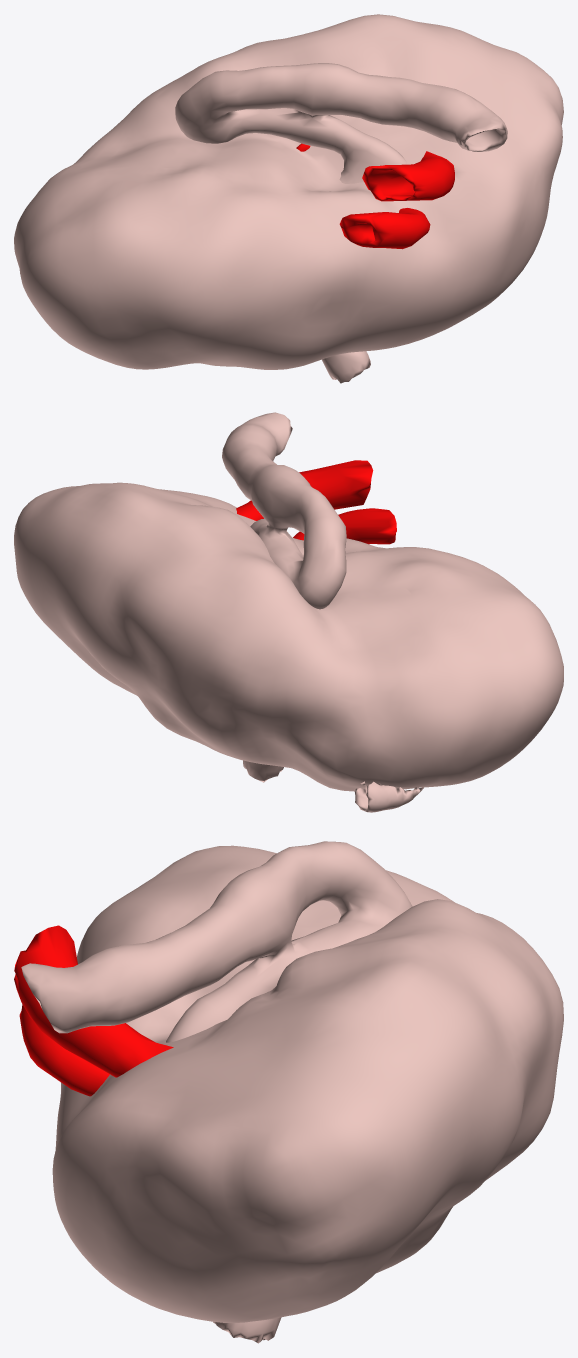
File: nih_f_lymph_node-80.glb
3 renders of one model, top to bottom at view 1: azimuth 30°, elevation 25°; view 2: azimuth 150°, elevation 25°; view 3: azimuth 270°, elevation 25°, orthographic. The views are drawn at different scales.
Parts seen in each view (by area): view 1: Yao_capsule_of_lymph_node, Yao_efferent_lymph_node, Yao_blood_vasculature, Yao_afferent_lymphatic_vessel; view 2: Yao_capsule_of_lymph_node, Yao_efferent_lymph_node, Yao_blood_vasculature, Yao_afferent_lymphatic_vessel; view 3: Yao_capsule_of_lymph_node, Yao_efferent_lymph_node, Yao_blood_vasculature, Yao_afferent_lymphatic_vessel.
Boxes of the visible parts, x1,y1,x2,y2 form: Yao_capsule_of_lymph_node: (14,14,563,369); Yao_efferent_lymph_node: (175,63,507,183); Yao_blood_vasculature: (296,143,454,249); Yao_afferent_lymphatic_vessel: (322,351,370,383); Yao_capsule_of_lymph_node: (14,482,563,791); Yao_efferent_lymph_node: (222,412,346,609); Yao_blood_vasculature: (236,460,396,544); Yao_afferent_lymphatic_vessel: (243,760,423,812); Yao_capsule_of_lymph_node: (52,845,563,1322); Yao_efferent_lymph_node: (21,841,412,1042); Yao_blood_vasculature: (14,925,173,1096); Yao_afferent_lymphatic_vessel: (213,1317,281,1343).
Size of the model in its own units: 0.0196 by 0.0113 by 0.0125.
